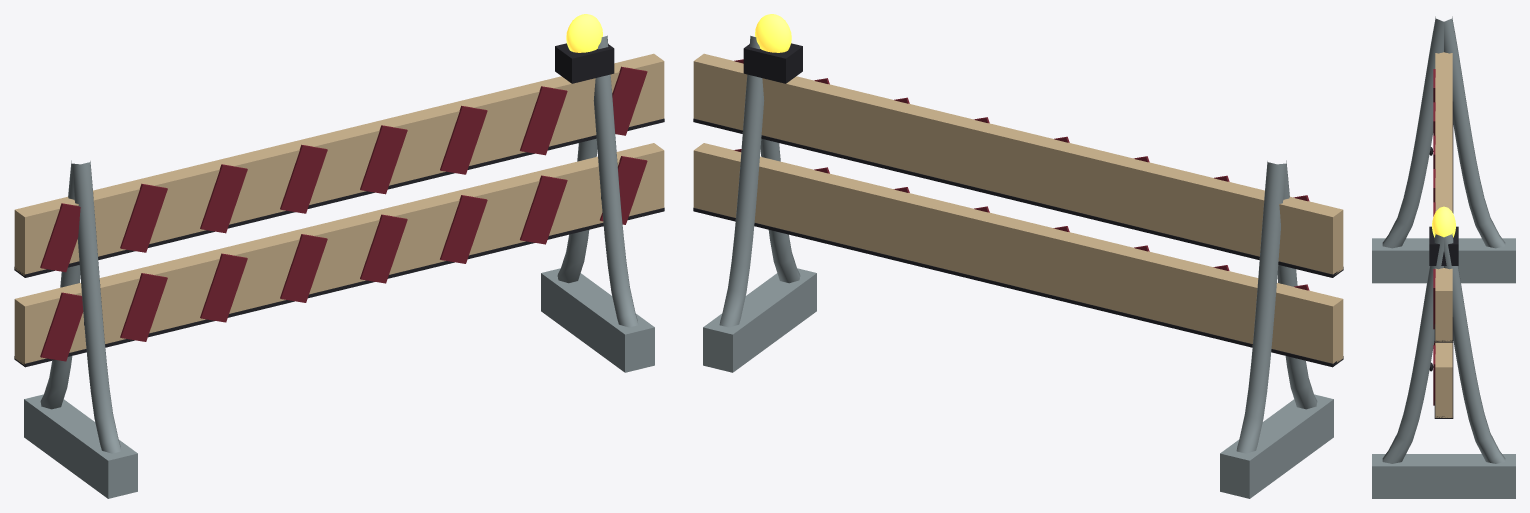
Rendered from mia-barricade.glb.
The picture shows the model from 3 angles, left to right: view 1: azimuth 30°, elevation 25°; view 2: azimuth 150°, elevation 25°; view 3: azimuth 270°, elevation 25°; orthographic projection. The views are drawn at different scales.
Visible parts, largest first — view 1: Body_ivory, Body_velvet, Body_steel, Body_iron, Body_amber; view 2: Body_ivory, Body_steel, Body_iron, Body_amber, Body_velvet; view 3: Body_steel, Body_ivory, Body_iron, Body_velvet, Body_amber.
Boxes of the visible parts, <box> form: Body_ivory: <box>14,53,664,365</box>; Body_velvet: <box>40,66,647,361</box>; Body_steel: <box>24,35,654,498</box>; Body_iron: <box>14,43,664,367</box>; Body_amber: <box>566,14,602,52</box>; Body_ivory: <box>693,53,1343,363</box>; Body_steel: <box>703,35,1333,498</box>; Body_iron: <box>693,43,1343,367</box>; Body_amber: <box>755,14,791,52</box>; Body_velvet: <box>734,59,1309,290</box>; Body_steel: <box>1372,16,1515,498</box>; Body_ivory: <box>1435,52,1452,417</box>; Body_iron: <box>1429,101,1458,418</box>; Body_velvet: <box>1433,69,1435,405</box>; Body_amber: <box>1432,206,1455,237</box>.
Size of the model in its own units: 2.4 by 1.17 by 0.547.
